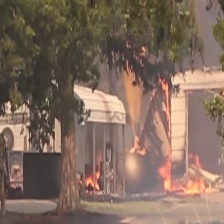fire: (127, 76, 222, 196), (83, 164, 103, 191)
